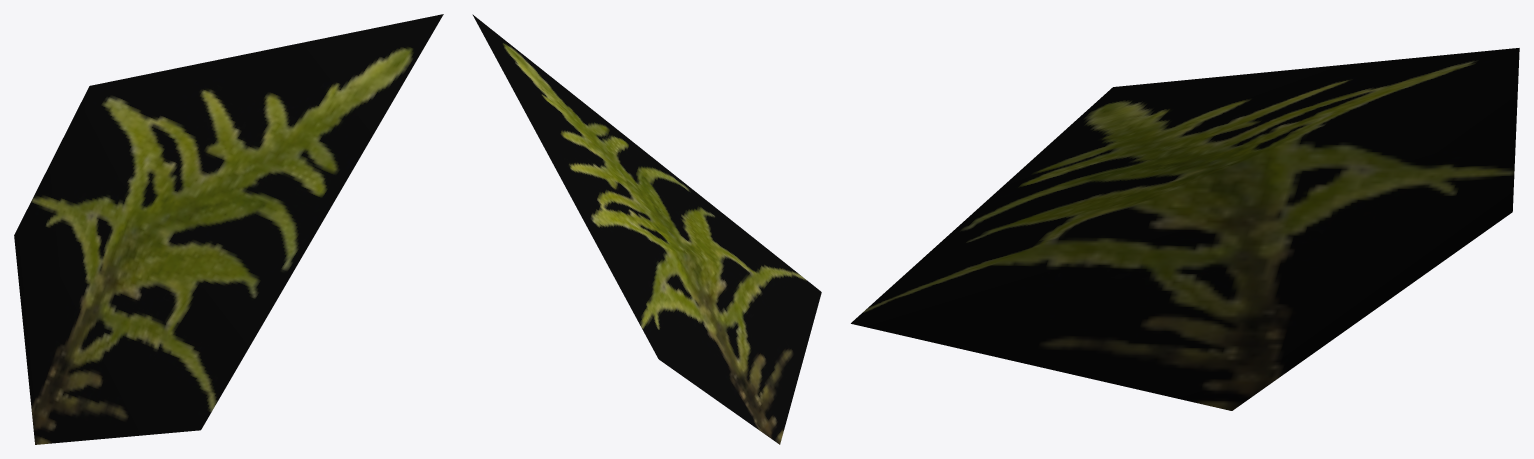
The model's file is moss_01_i.glb.
The picture shows the model from 3 angles, left to right: view 1: azimuth 30°, elevation 25°; view 2: azimuth 150°, elevation 25°; view 3: azimuth 270°, elevation 25°; orthographic projection. The views are drawn at different scales.
Parts seen in each view (by area): view 1: moss_01_i_LOD0; view 2: moss_01_i_LOD0; view 3: moss_01_i_LOD0.
Boxes of the visible parts, <box> form: moss_01_i_LOD0: <box>14,14,443,444</box>; moss_01_i_LOD0: <box>472,14,821,444</box>; moss_01_i_LOD0: <box>851,48,1519,410</box>.
Bounding box in the file's own units: 0.0159 × 0.0147 × 0.0137.
1 material, 1 textured.
